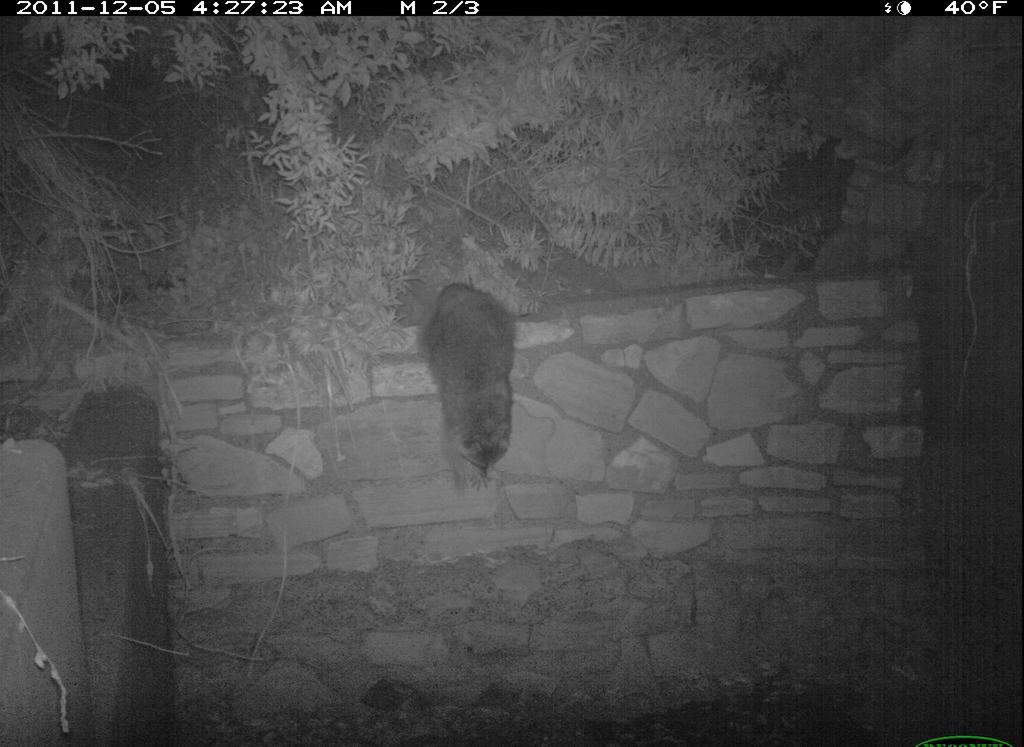raccoon: (411, 277, 525, 500)
